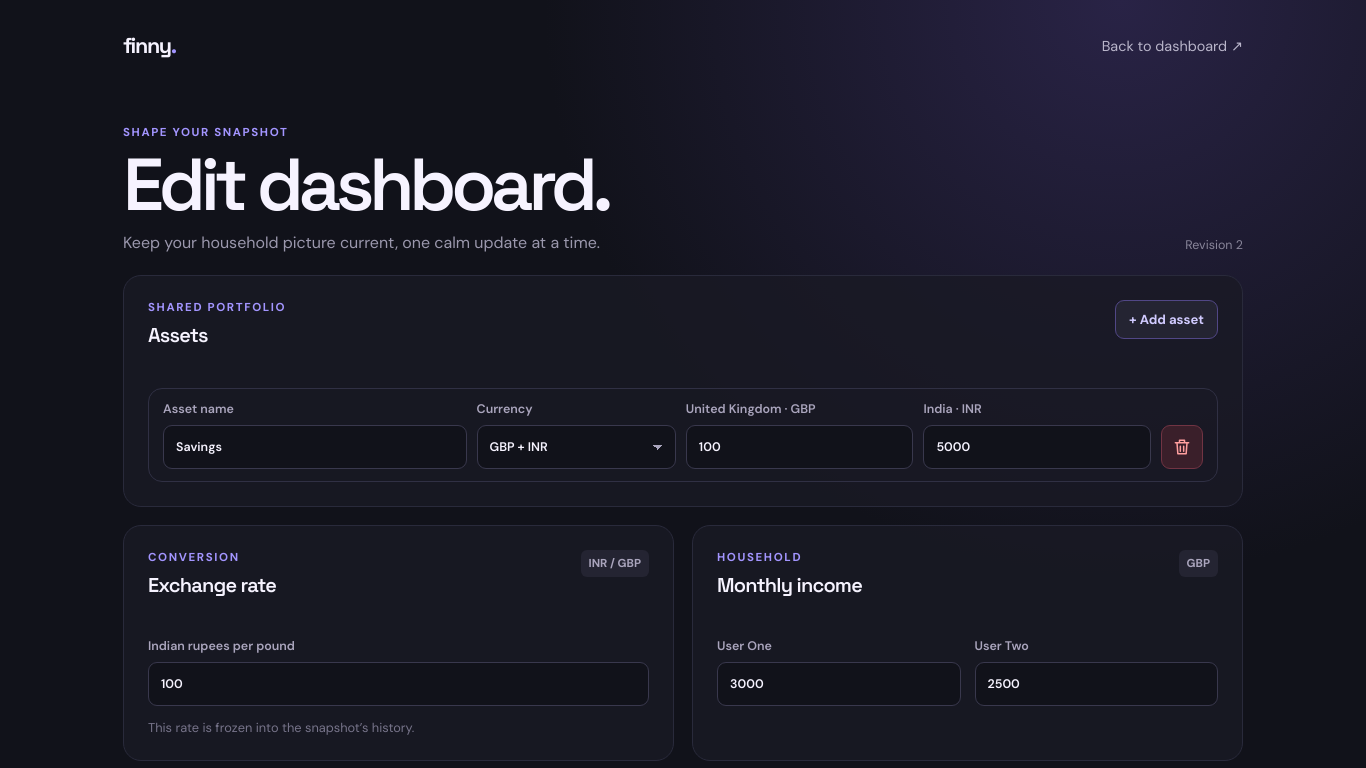
Test: EditDashboardPage › converts an existing asset between currency memberships
expect the field showing "Savings" is shown: met, box [163,425,466,469]
Select "GBP only" in the dropdown named "Savings currency" at (576, 447), box [476,425,676,469]
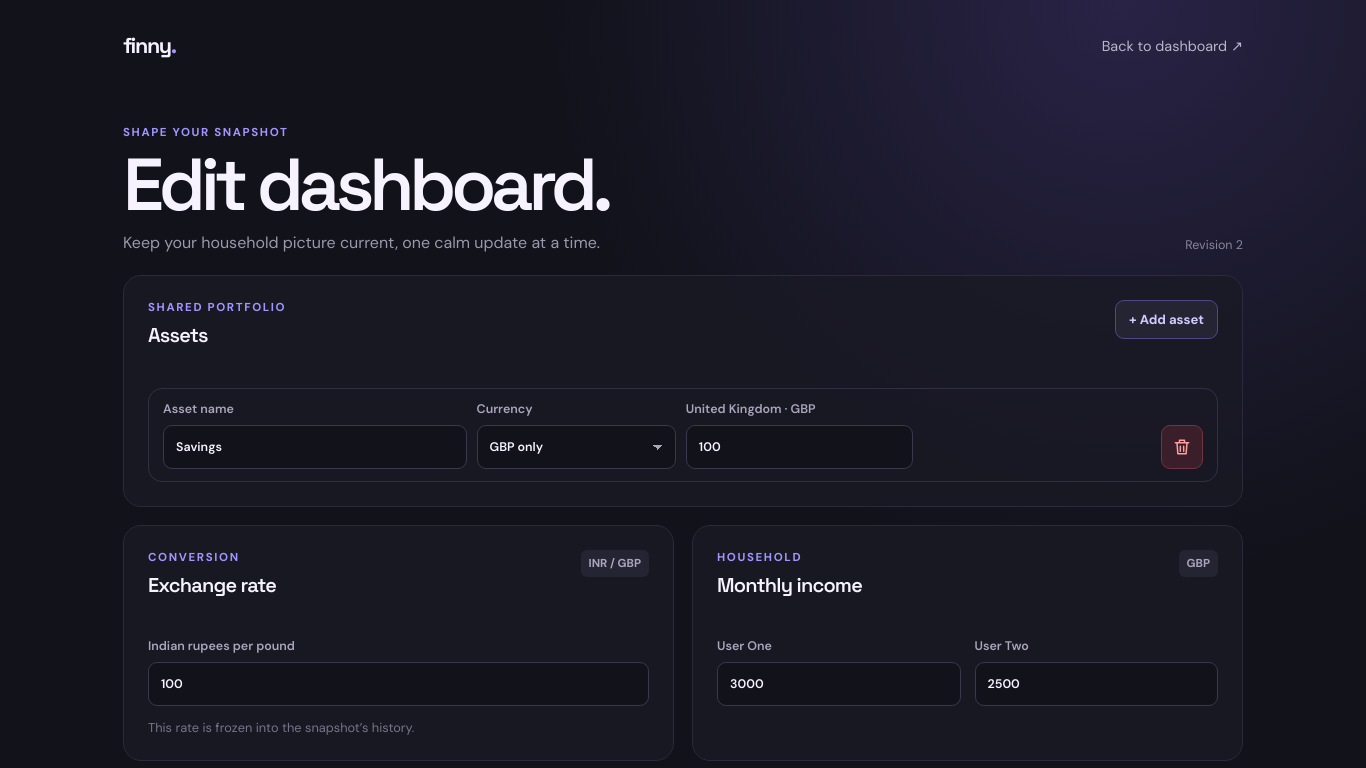
Select "INR only" in the dropdown named "Savings currency" at (576, 447), box [476,425,676,469]
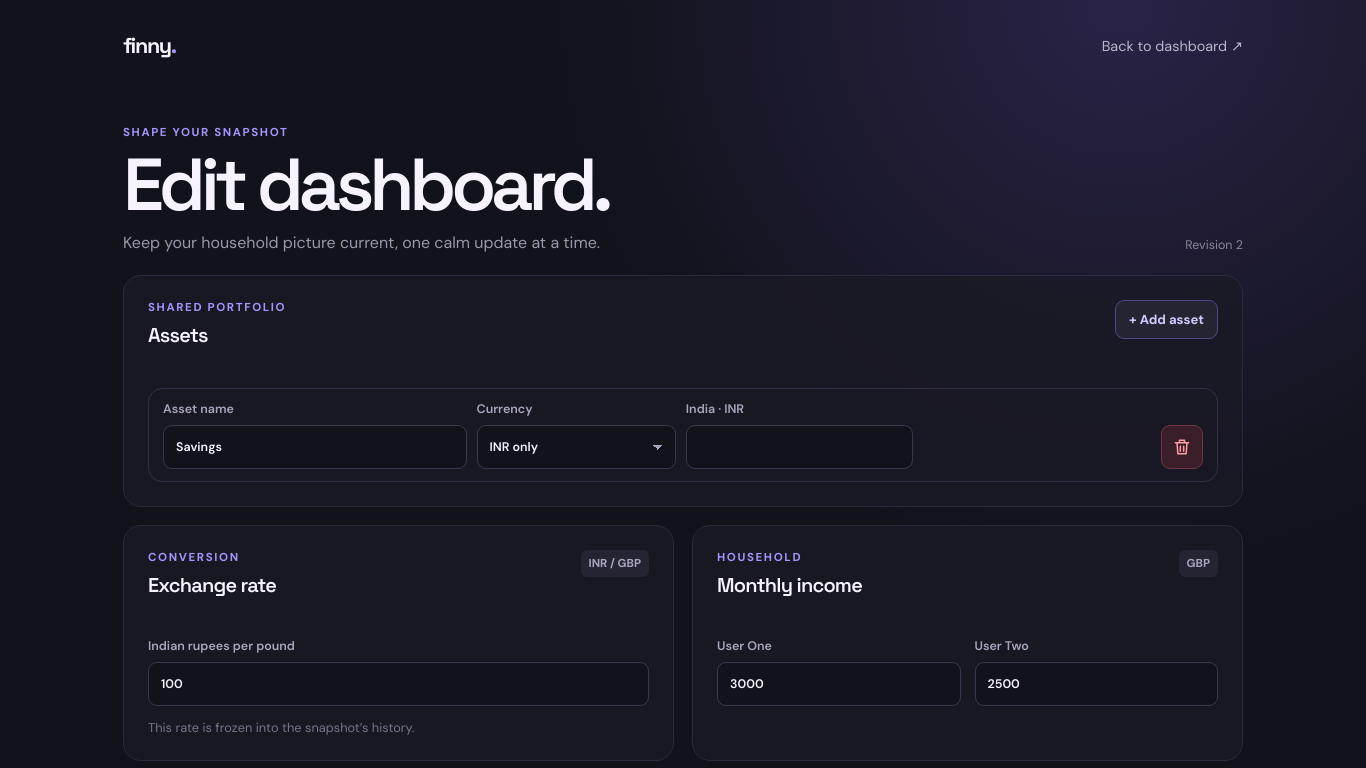
expect the field named "Savings India · INR value" is shown: met, box [686,425,913,469]
